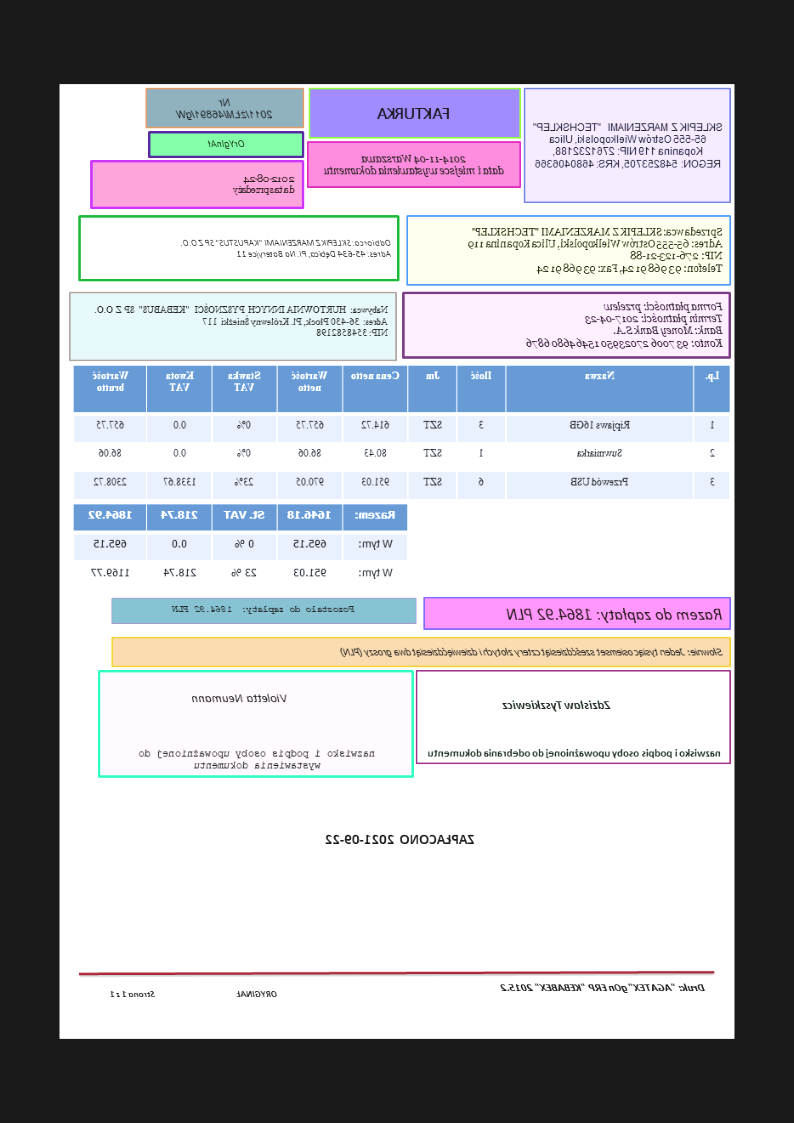Table: (73, 363, 733, 501), (73, 503, 410, 591)
TextBox: (465, 222, 726, 277), (94, 303, 392, 341), (523, 298, 726, 352), (532, 119, 726, 172), (134, 746, 378, 772), (338, 644, 726, 660), (181, 234, 394, 260), (505, 604, 727, 627), (321, 152, 507, 179), (425, 745, 725, 760), (496, 978, 709, 996), (173, 94, 276, 123), (321, 831, 478, 848), (106, 986, 282, 1001), (170, 602, 360, 615), (501, 695, 613, 713), (231, 171, 299, 199), (191, 689, 291, 706), (374, 105, 452, 123), (205, 137, 247, 151)
